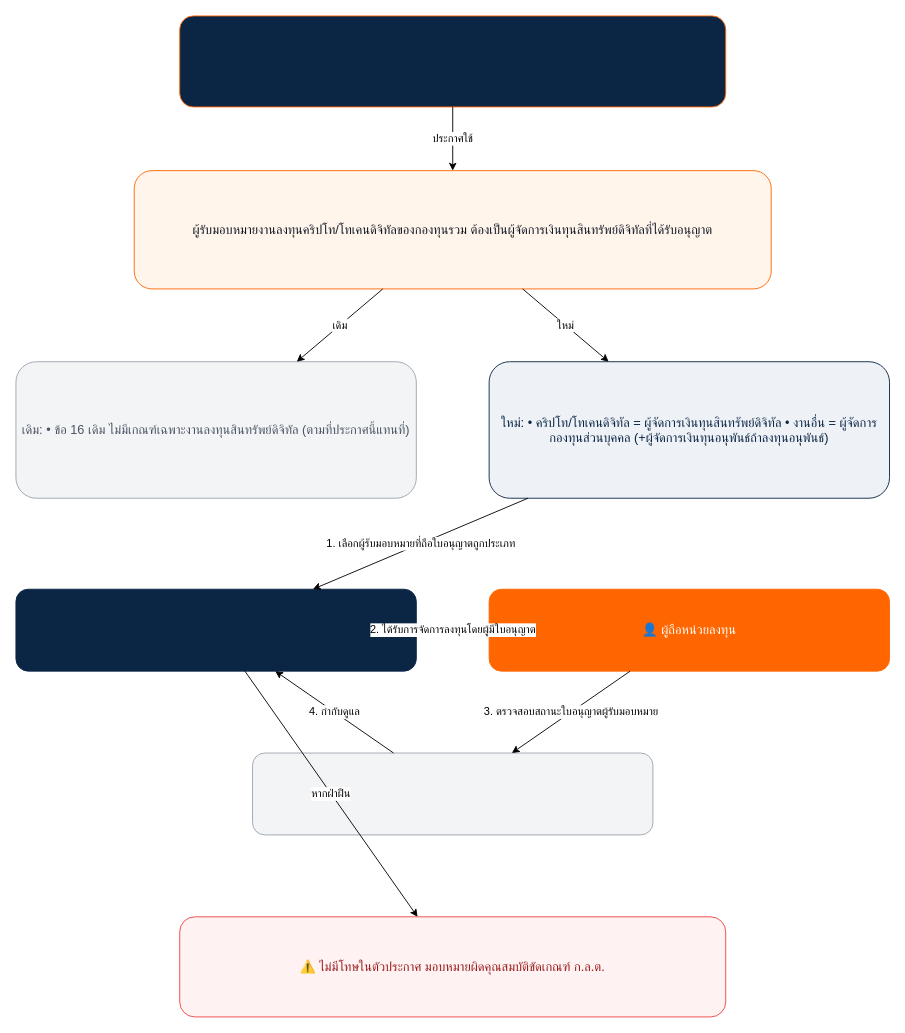
Image size: 905x1033. Some labels were removed from this diagram. The shapes that lost their labels are listed below. From the top down, each one's centre as x and y in pixels, then its label:
At point 452,61: "ทธ.22/2569 มอบหมายงานจัดการลงทุนคริปโท".
At point 215,629: "🏢 บลจ. ผู้มอบหมายงาน".
At point 452,793: "🏛️ ก.ล.ต.".
